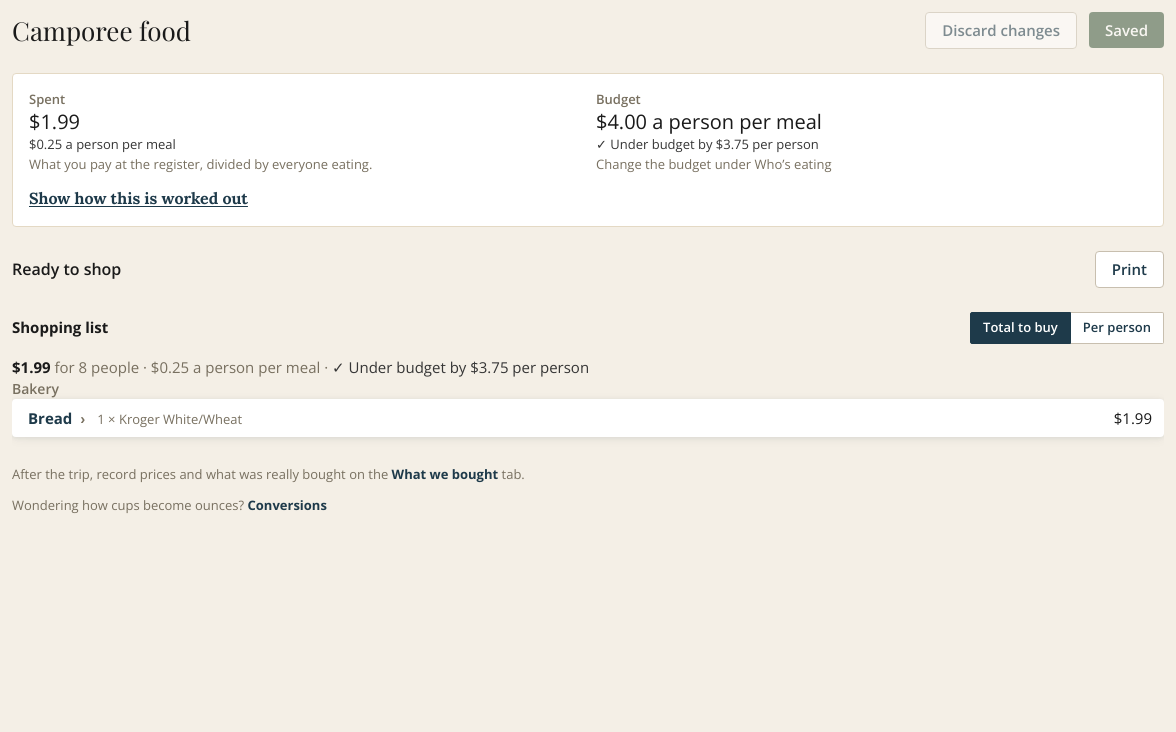
it: ShoppingTab › totals panel › Panel_KeepsTheOldExplanatorySublines
Click the button "Show how this is worked out" at (138, 198), box x1=29 y1=186 x2=248 y2=210
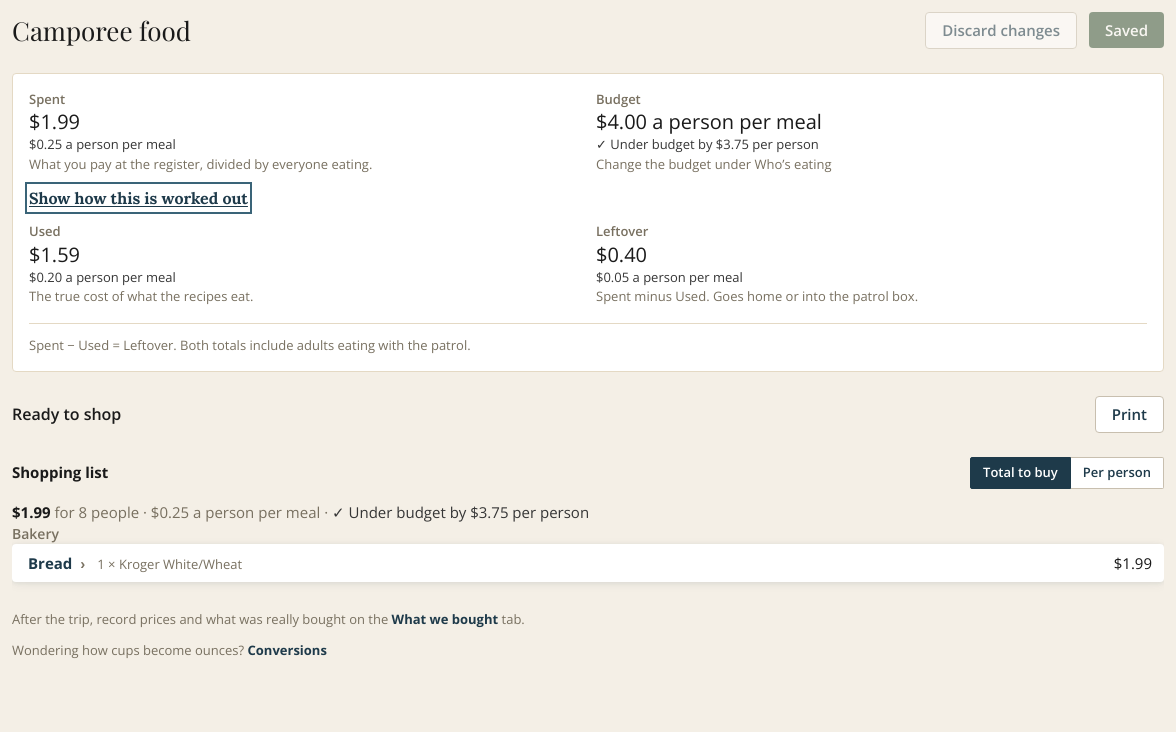
Result: the text "Spent − Used = Leftover. Both totals include adults eating with the patrol." is shown at x1=29 y1=336 x2=471 y2=355
